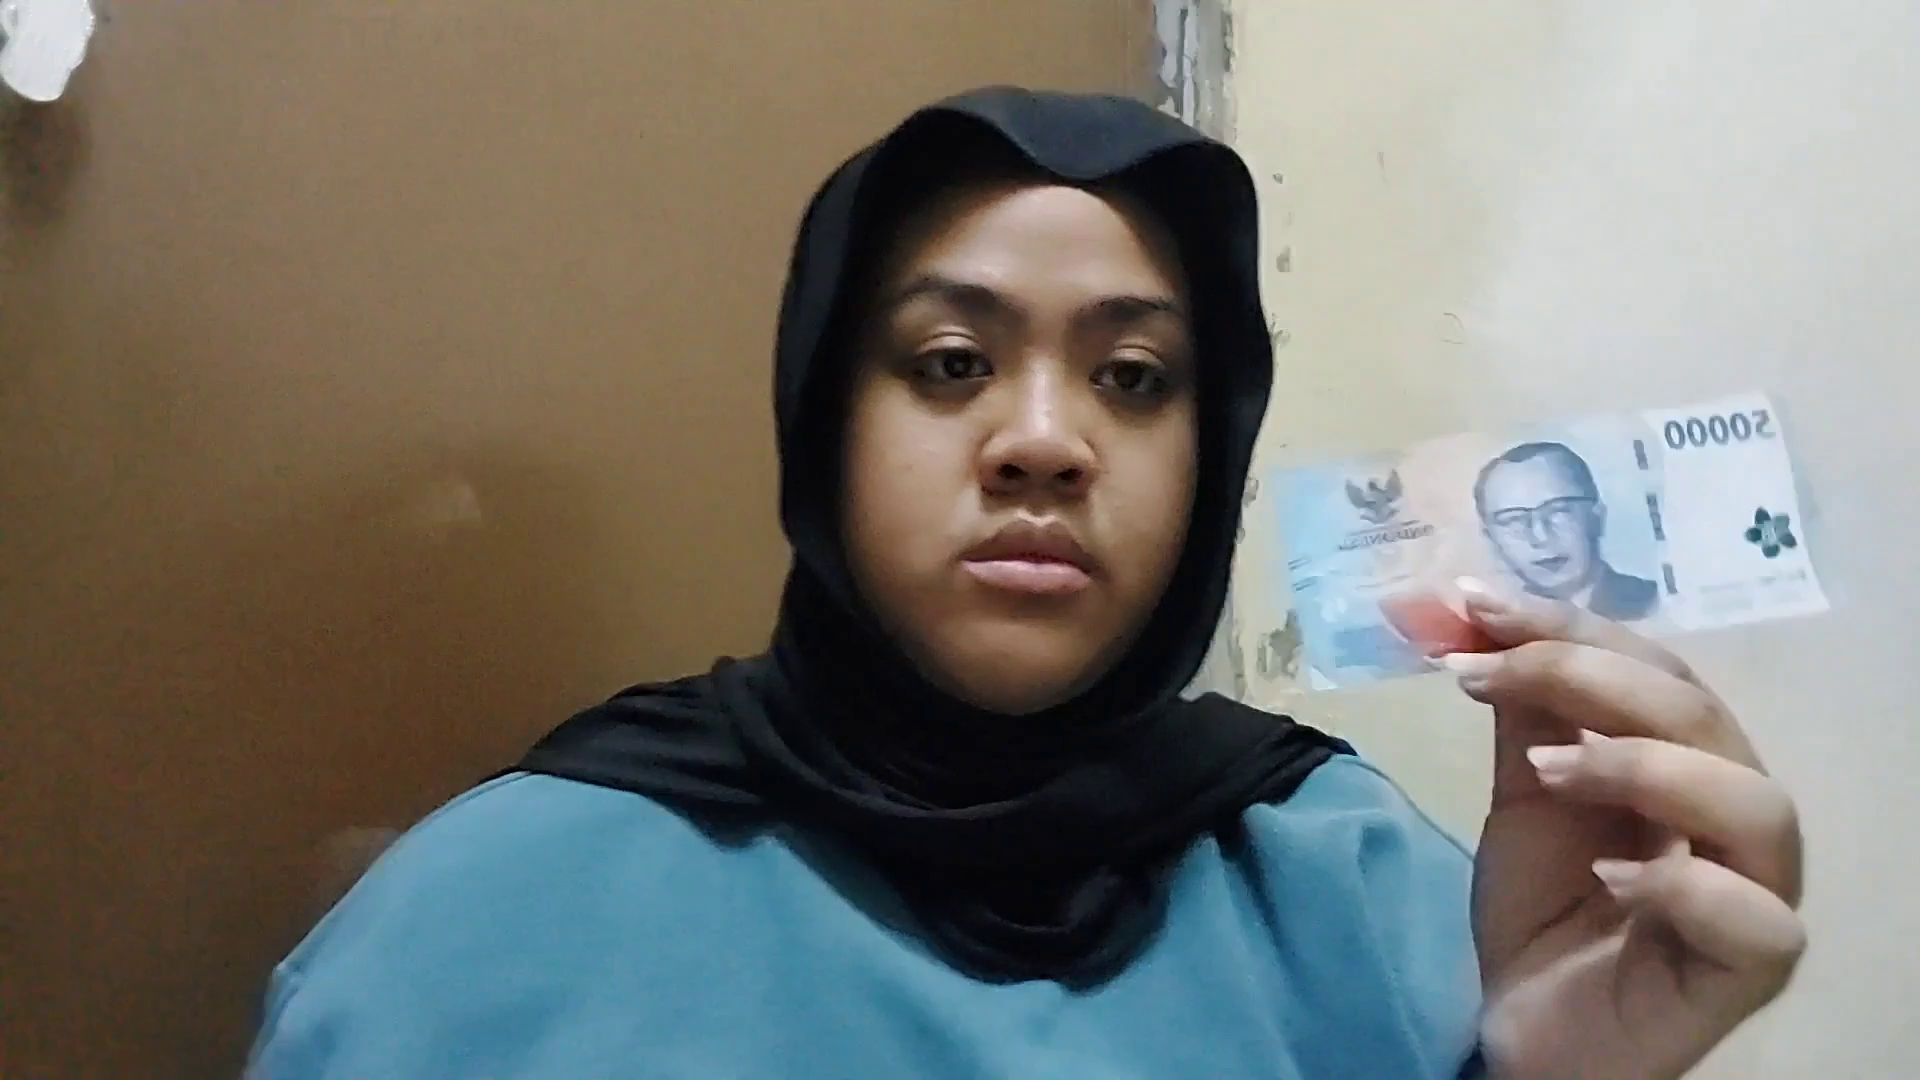50k: (1257, 465, 1808, 702)
